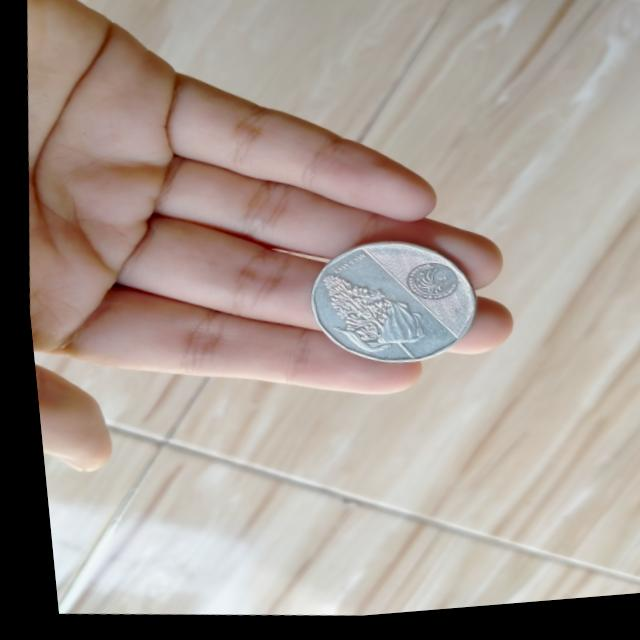10_New_Back: (305, 269, 425, 379)
